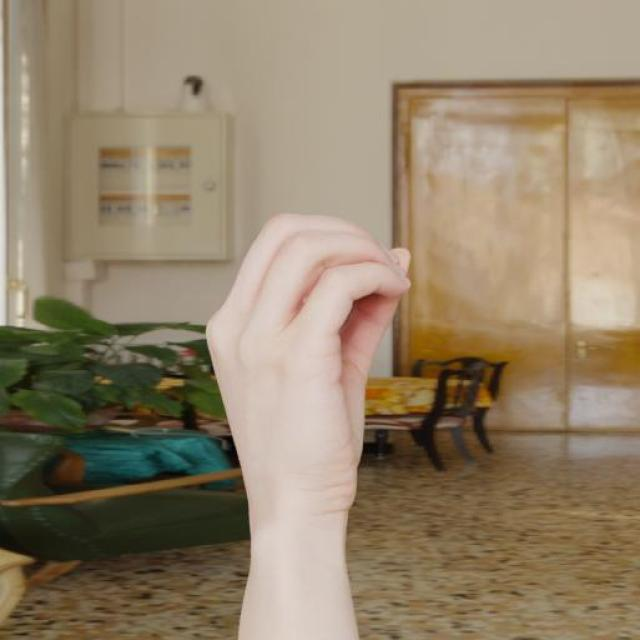O: (198, 211, 416, 523)
